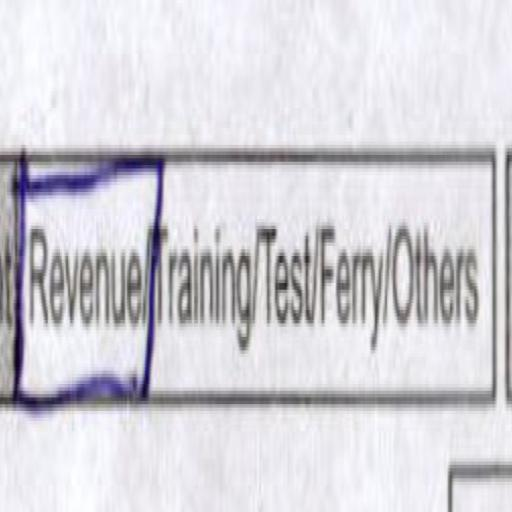check: (8, 119, 150, 464)
